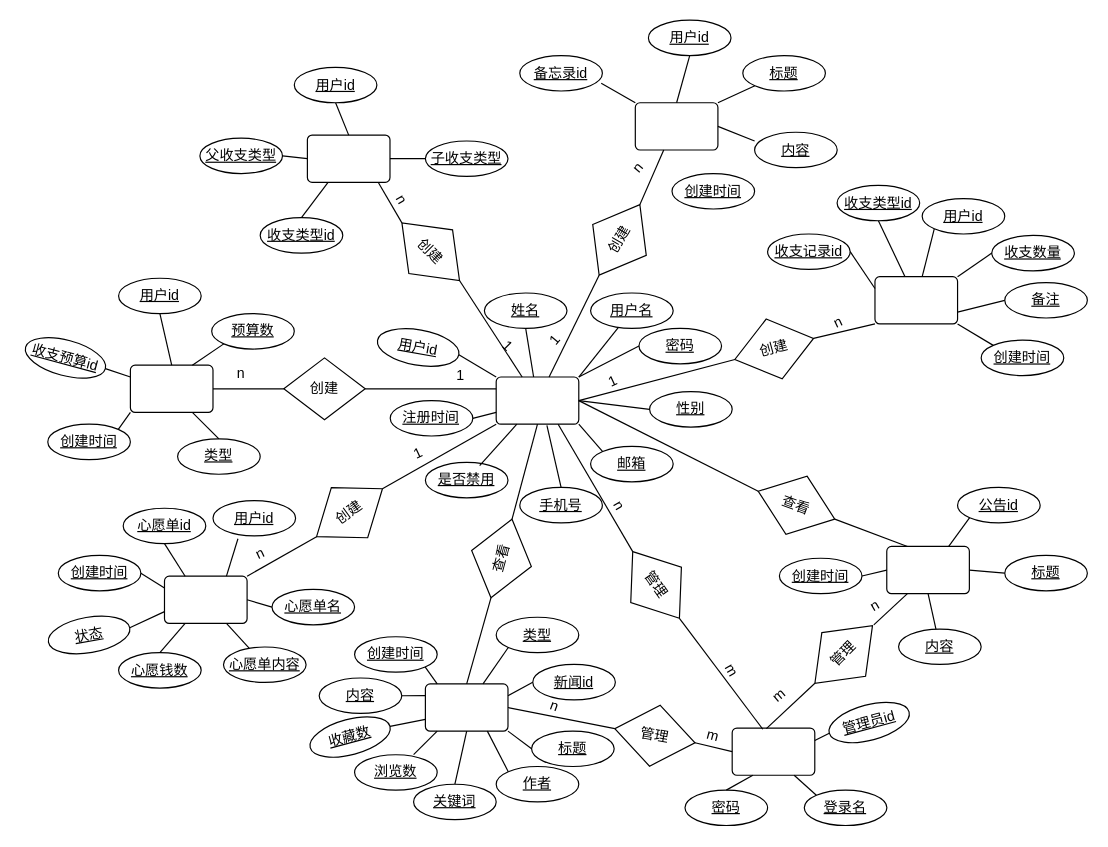
The diagram is 1108 pixels wide and 847 high, and some of its shapes have lost their labels. The shapes that lost their labels are listed below. From the top down, each one's centre as x and y in pixels, then its label:
At (676,126): "备忘录".
At (348,158): "收支类型".
At (916,300): "收支记录".
At (171,388): "收支预算".
At (537,400): "用户".
At (927,569): "公告".
At (205,599): "心愿单".
At (466,707): "新闻".
At (773,751): "管理员".
